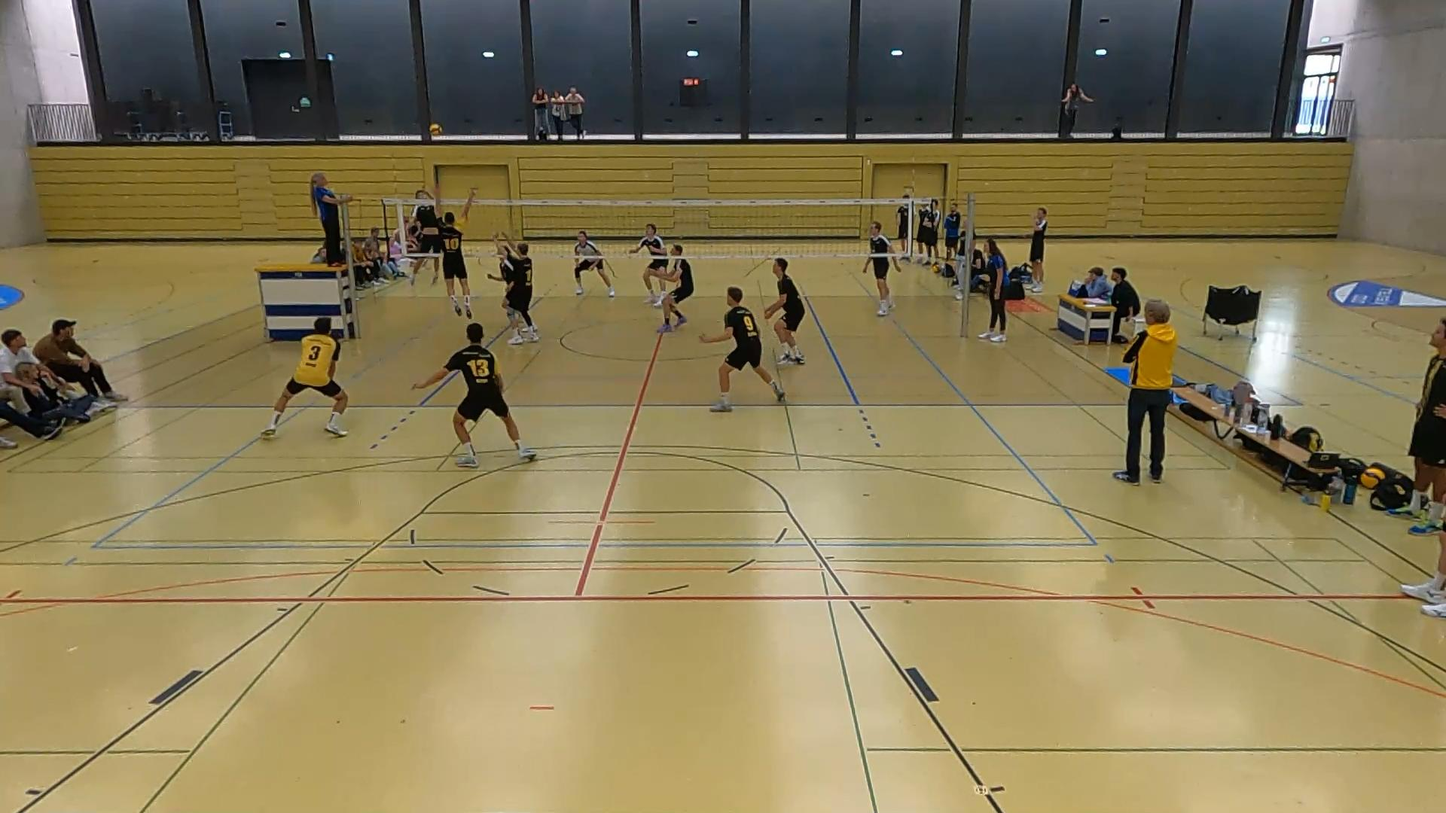Attack: (402, 180, 441, 291)
Block: (429, 187, 479, 322)
Player: (413, 322, 536, 467), (700, 287, 784, 412), (261, 317, 348, 437), (490, 234, 539, 345), (764, 257, 804, 364), (629, 223, 668, 306), (862, 221, 896, 315), (658, 244, 693, 332), (573, 230, 615, 297)
ball: (427, 119, 442, 137)
